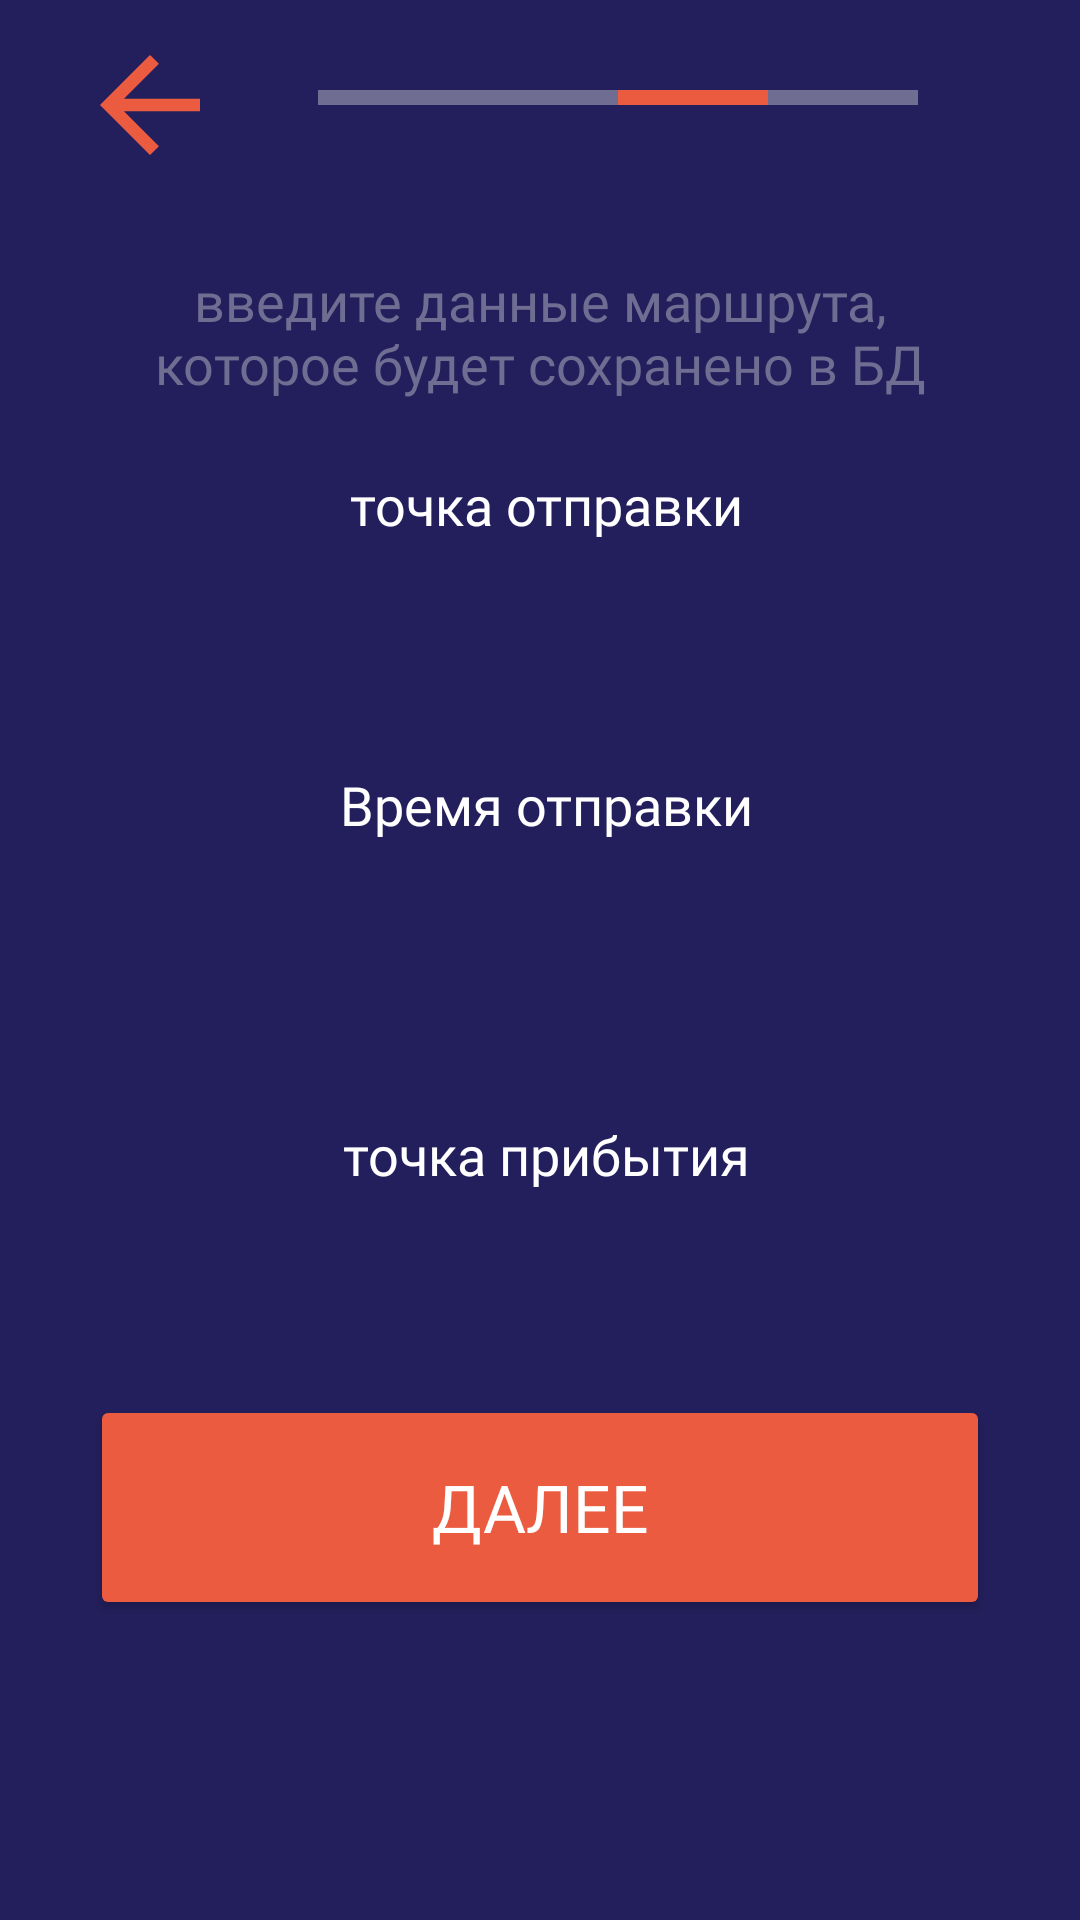

Screen size 1080x1920. Icon name, then its center in pixels as point (x, y):
back: point (150, 105)
